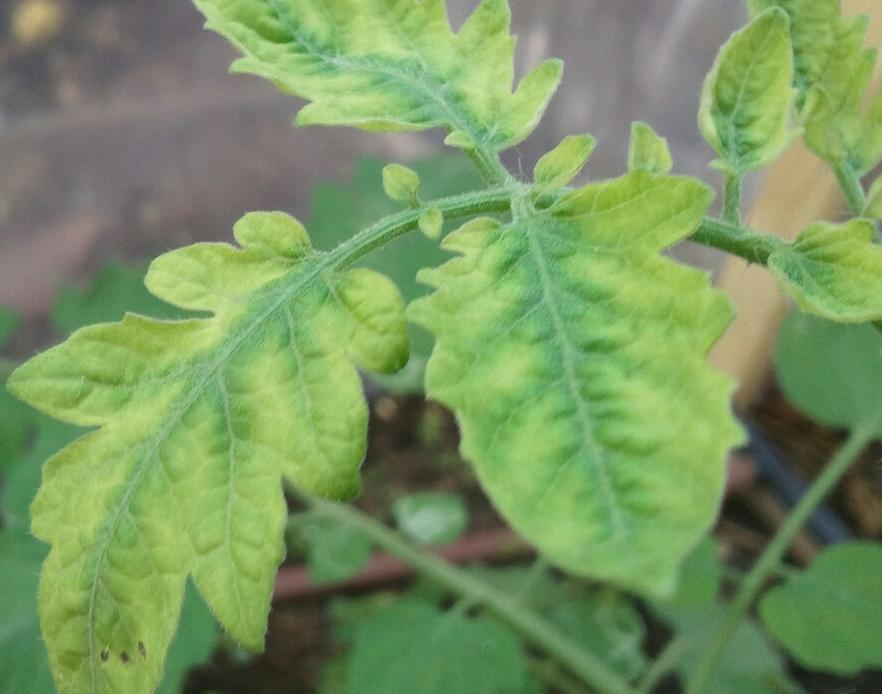Tomato leaf yellow virus: (29, 200, 406, 694), (429, 188, 761, 658), (121, 0, 554, 171), (734, 0, 882, 162), (689, 0, 791, 175)
